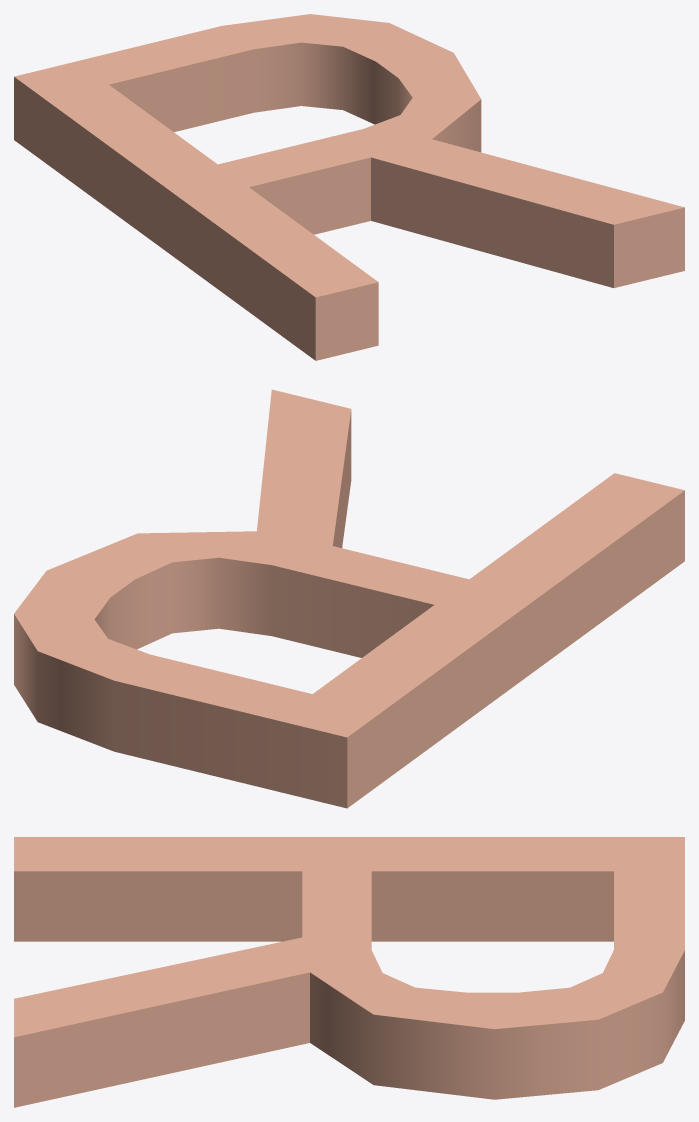
3 views of the same model, one above another, from view 1: azimuth 30°, elevation 25°; view 2: azimuth 150°, elevation 25°; view 3: azimuth 270°, elevation 25° (orthographic). The views are drawn at different scales.
Visible parts, largest first — view 1: R; view 2: R; view 3: R.
Part boxes in pixels (x1,y1,x2,y2): R: (14, 14, 684, 360); R: (14, 389, 684, 808); R: (14, 837, 684, 1107).
Size of the model in its own units: 0.1529 by 0.0251 by 0.2165.
